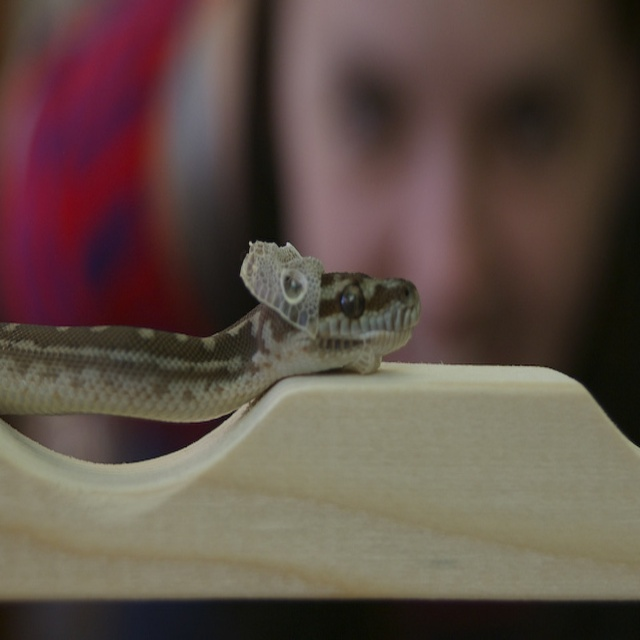Snake: (5, 208, 433, 444)
